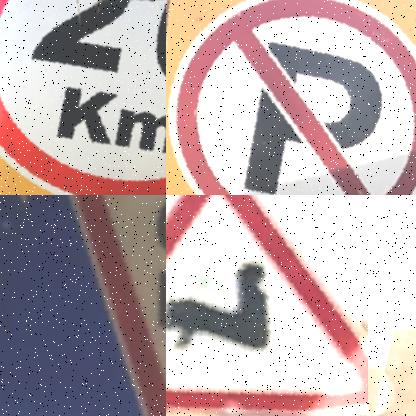Give Way: (0, 195, 166, 416), (12, 195, 166, 416)
No Parking: (166, 0, 416, 195)
Speed Limit -20 kmph-: (0, 0, 166, 195)
Zigzag Road Ahead: (166, 195, 367, 416)
